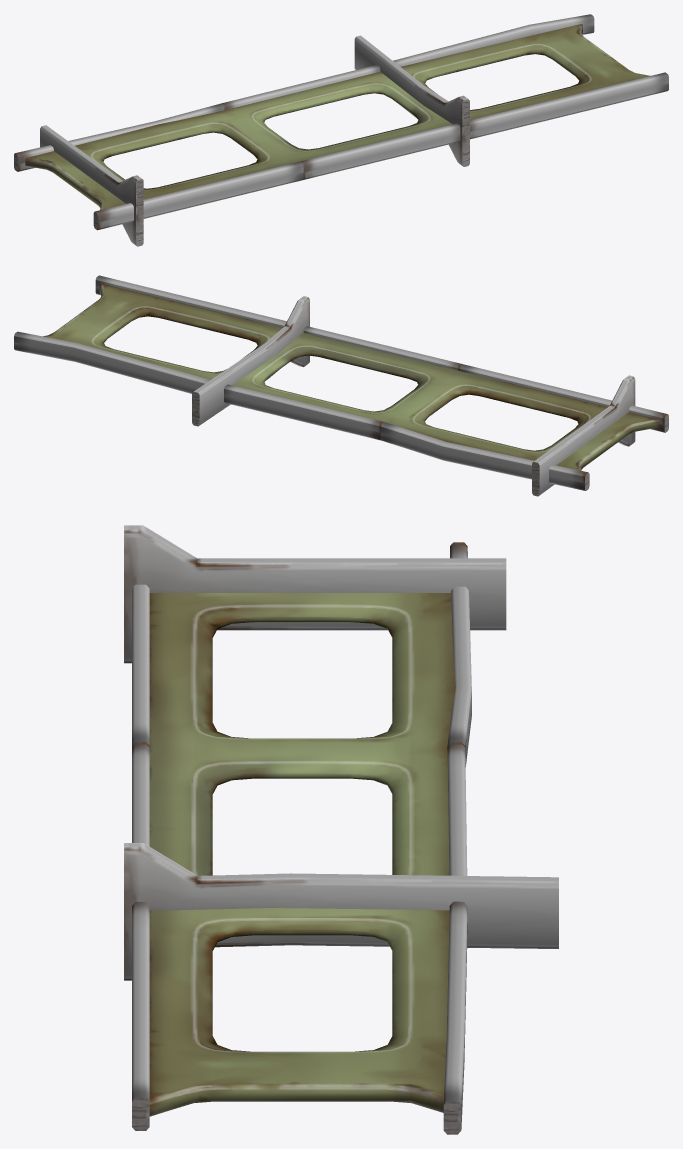
The model's file is HubWall8.FBX.
The picture shows the model from 3 angles, top to bottom: view 1: azimuth 30°, elevation 25°; view 2: azimuth 150°, elevation 25°; view 3: azimuth 270°, elevation 25°; orthographic projection. The views are drawn at different scales.
Visible parts, largest first — view 1: HubWall8_LOD0; view 2: HubWall8_LOD0; view 3: HubWall8_LOD0.
Boxes of the visible parts, x1,y1,x2,y2 form: HubWall8_LOD0: (14,14,668,246); HubWall8_LOD0: (14,275,668,496); HubWall8_LOD0: (124,525,558,1134).
Size of what is drawn, in the model's own units: 14.71 by 1.64 by 4.84.
